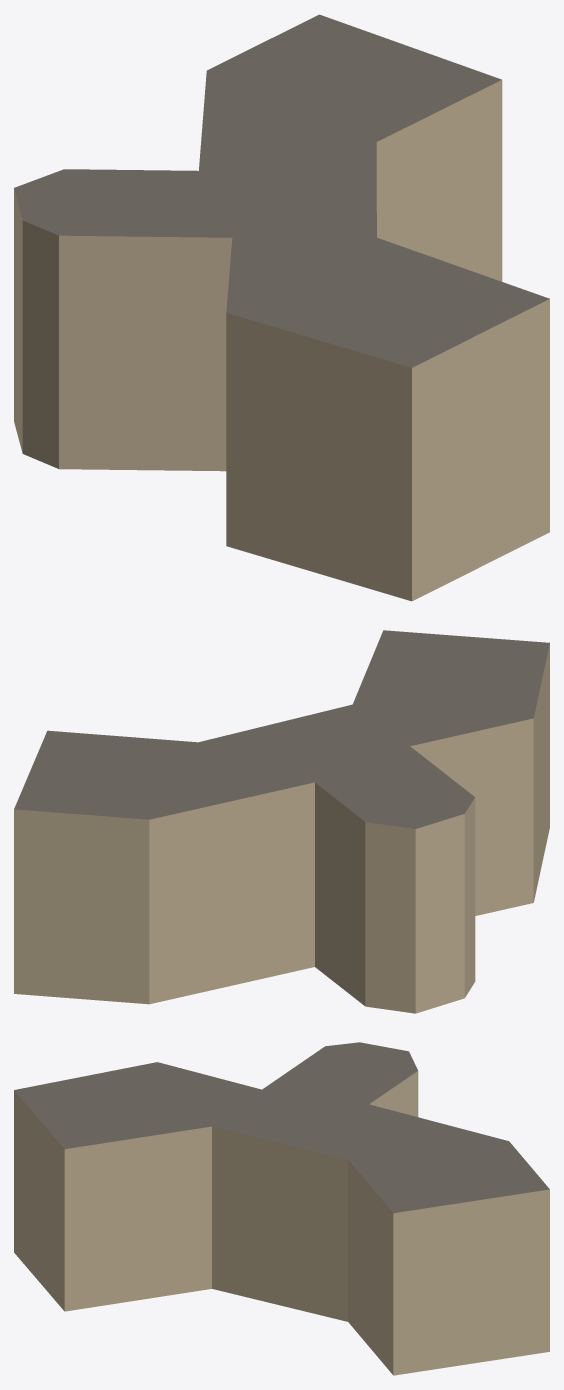
3 renders of one model, top to bottom at view 1: azimuth 30°, elevation 25°; view 2: azimuth 150°, elevation 25°; view 3: azimuth 270°, elevation 25°, orthographic. The views are drawn at different scales.
Parts seen in each view (by area): view 1: HP-w572270460; view 2: HP-w572270460; view 3: HP-w572270460.
Part boxes in pixels (<box>): HP-w572270460: <box>14,14,549,601</box>; HP-w572270460: <box>14,630,549,1013</box>; HP-w572270460: <box>14,1042,549,1375</box>.
Bounding box in the file's own units: 44.71 × 19.8 × 59.23.
